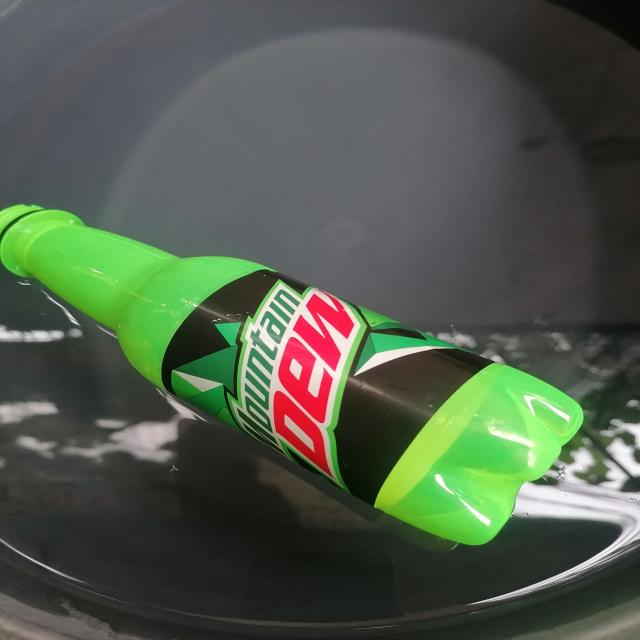Plastic Bottle: (0, 205, 583, 550)
